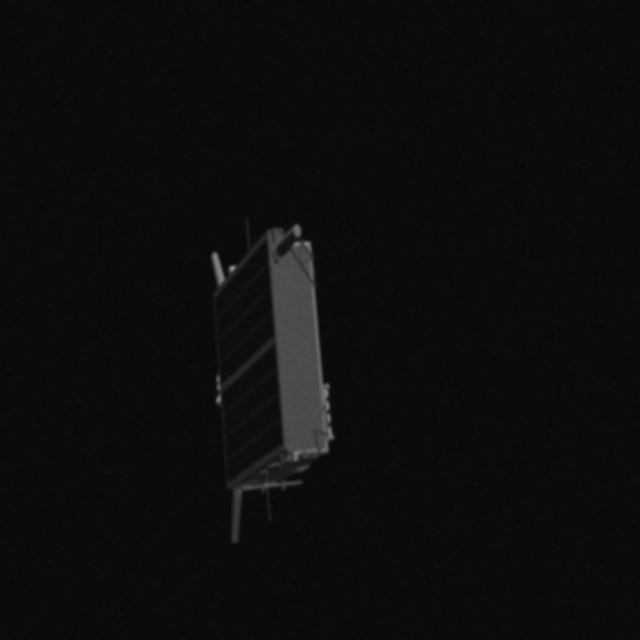medium_debris: (198, 206, 334, 564)
